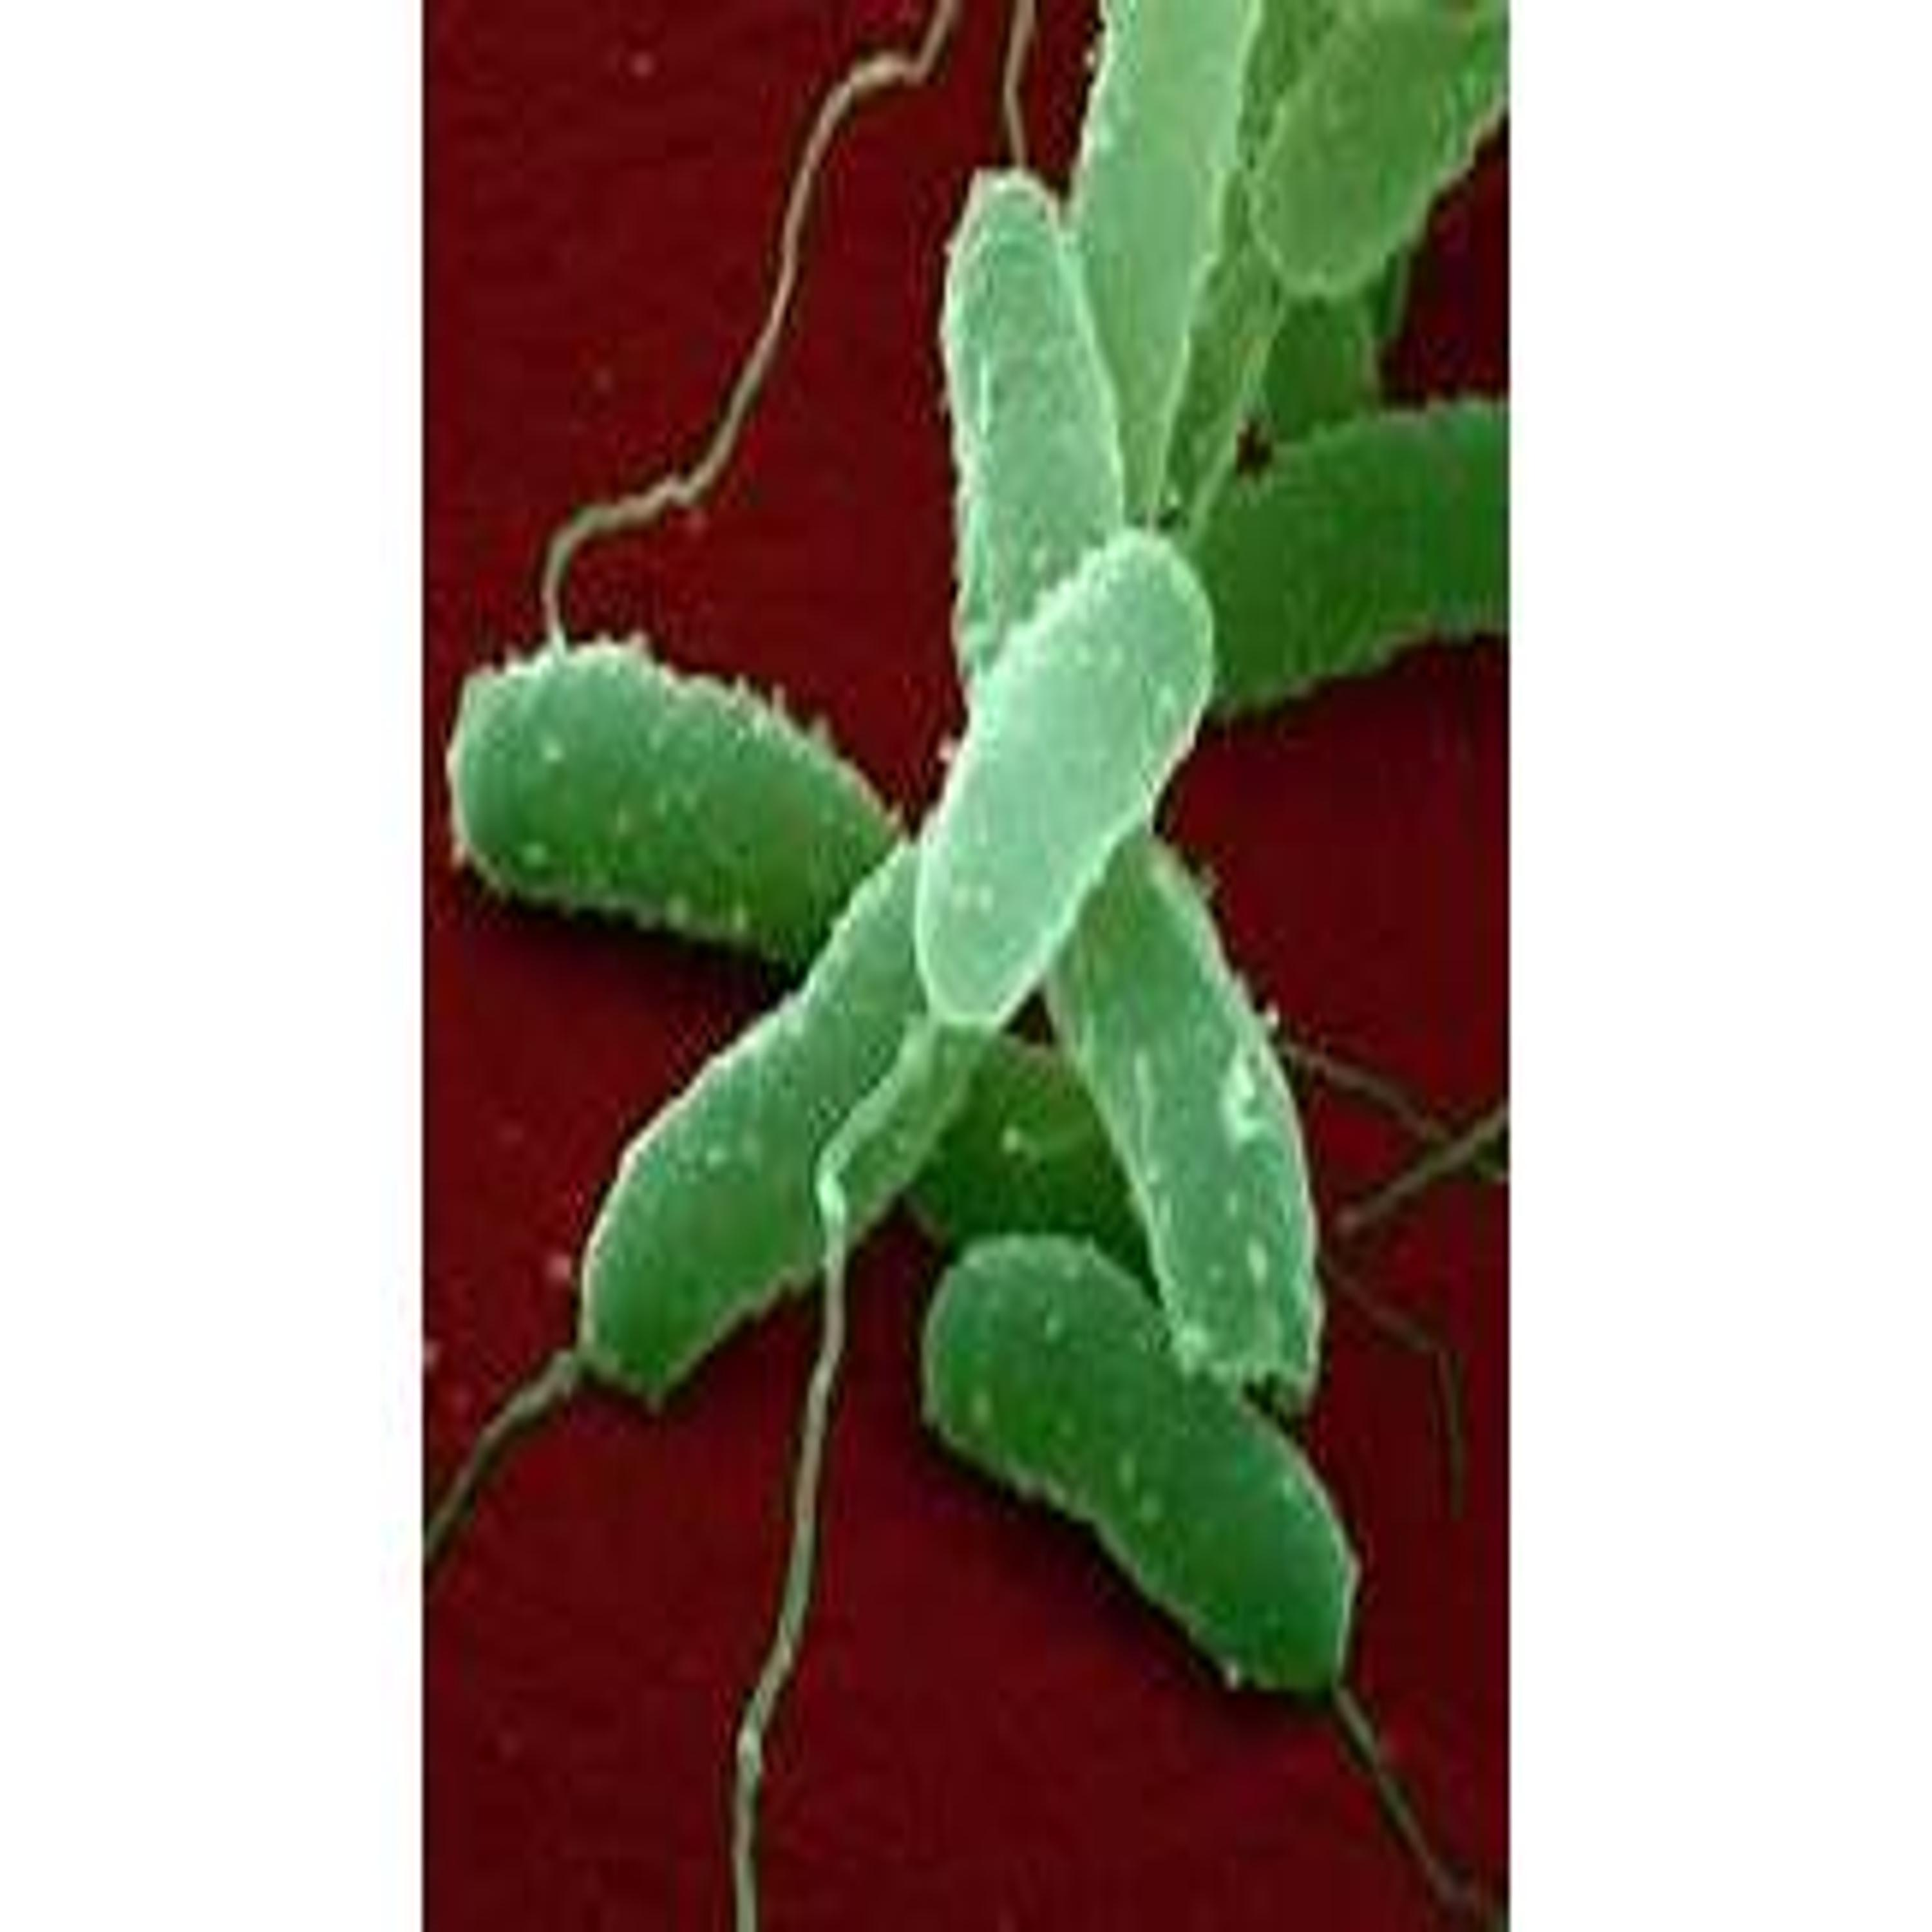Vibrio_cholerae5: (727, 533, 1219, 1932), (416, 837, 993, 1585), (922, 1217, 1504, 1928)
